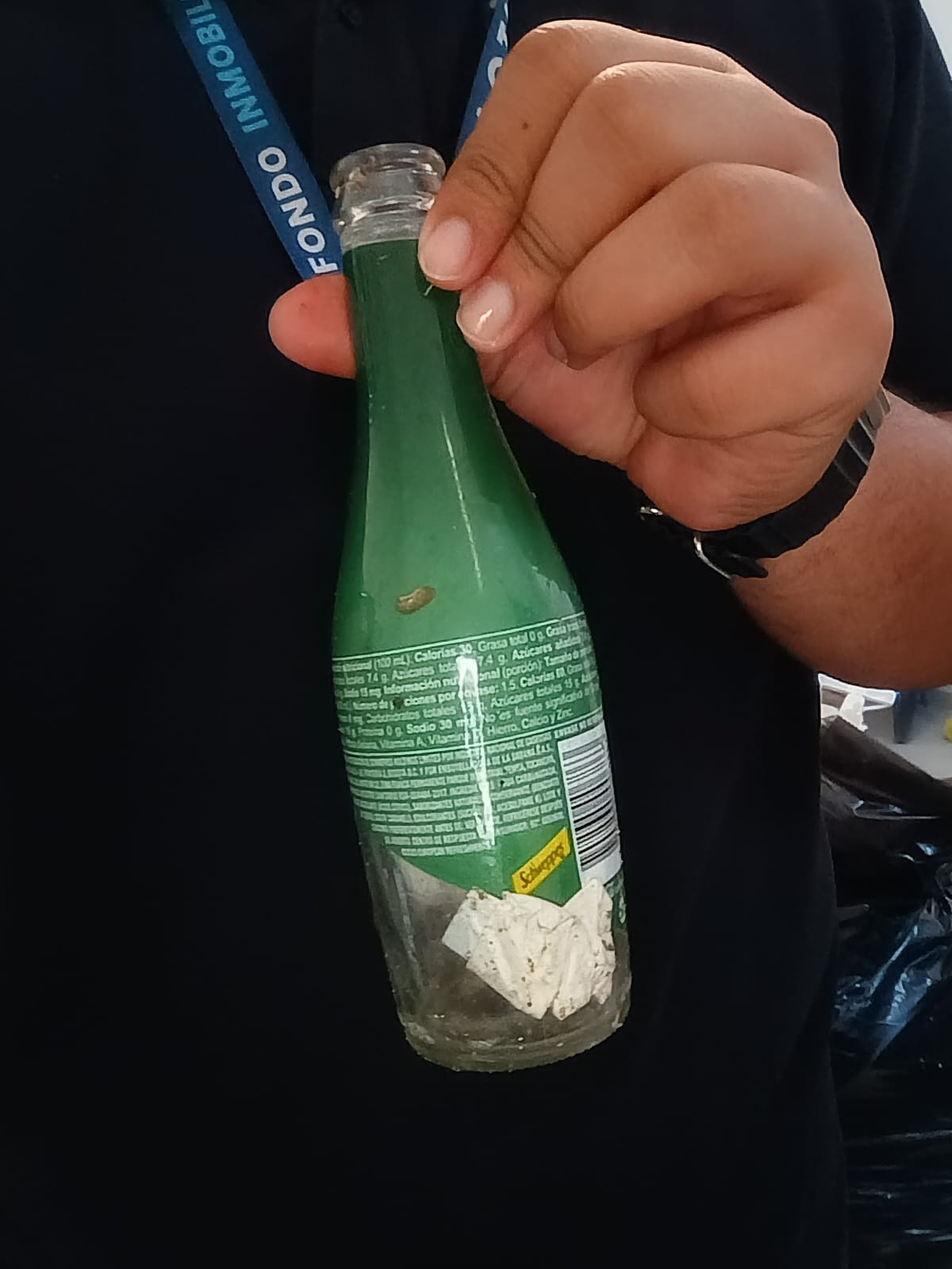Vidrio: (331, 145, 634, 1073)
